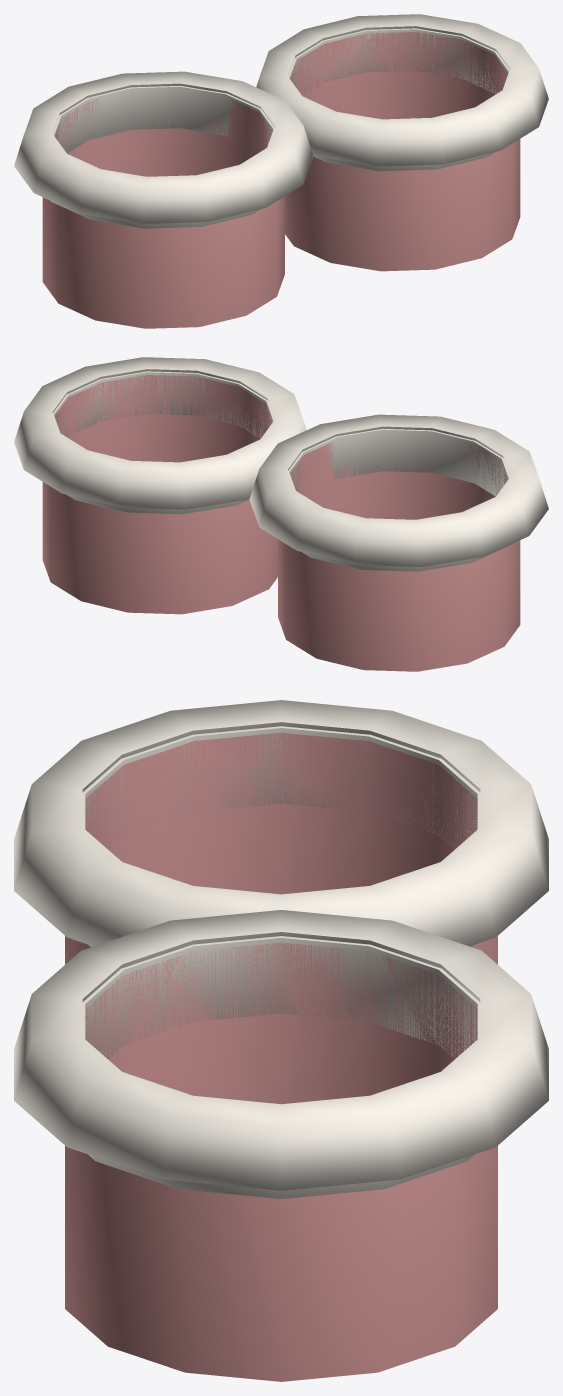
The model's file is pom_pom_socks.glb.
3 renders of one model, top to bottom at view 1: azimuth 30°, elevation 25°; view 2: azimuth 150°, elevation 25°; view 3: azimuth 270°, elevation 25°, orthographic. The views are drawn at different scales.
Visible parts, largest first — view 1: pom_pom_socks_LegL, pom_pom_socks_LegR; view 2: pom_pom_socks_LegL, pom_pom_socks_LegR; view 3: pom_pom_socks_LegR, pom_pom_socks_LegL.
Boxes of the visible parts, left/top/right/bottom form: pom_pom_socks_LegL: left=14, top=71, right=313, bottom=328; pom_pom_socks_LegR: left=256, top=14, right=548, bottom=271; pom_pom_socks_LegL: left=249, top=414, right=548, bottom=671; pom_pom_socks_LegR: left=14, top=357, right=306, bottom=614; pom_pom_socks_LegR: left=14, top=910, right=548, bottom=1381; pom_pom_socks_LegL: left=14, top=700, right=548, bottom=964.
Bounding box in the file's own units: 0.4 × 0.114 × 0.2047.
